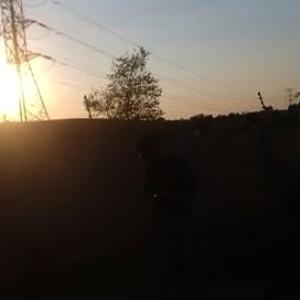follow: (135, 126, 204, 299)
